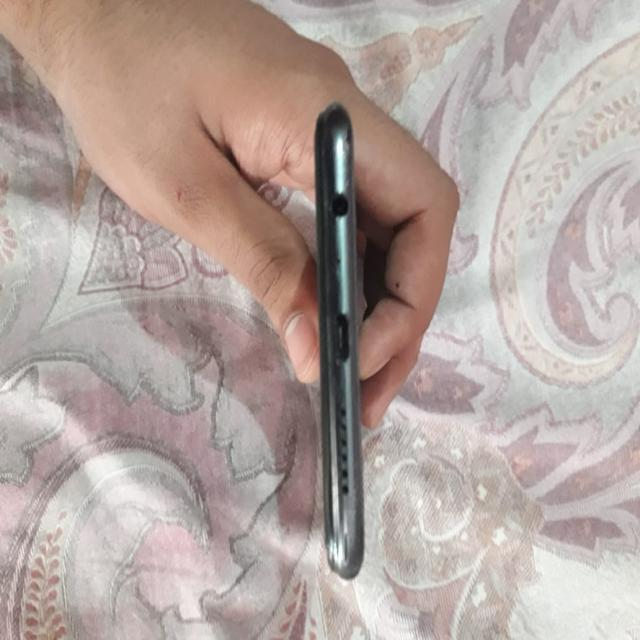phone good: (312, 108, 374, 586)
